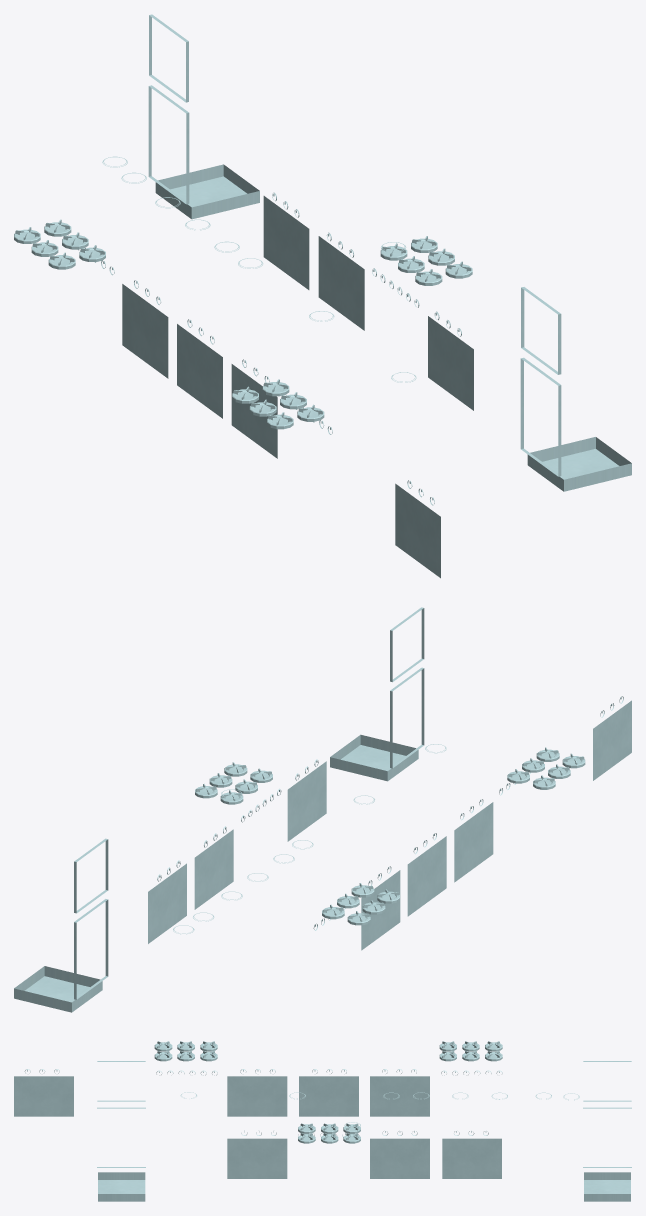
The model's file is resto_ni_teo_11.obj.
The picture shows the model from 3 angles, top to bottom: view 1: azimuth 30°, elevation 25°; view 2: azimuth 150°, elevation 25°; view 3: azimuth 270°, elevation 25°; orthographic projection. The views are drawn at different scales.
Size of the model in its own units: 4.9 by 2.68 by 12.82.
